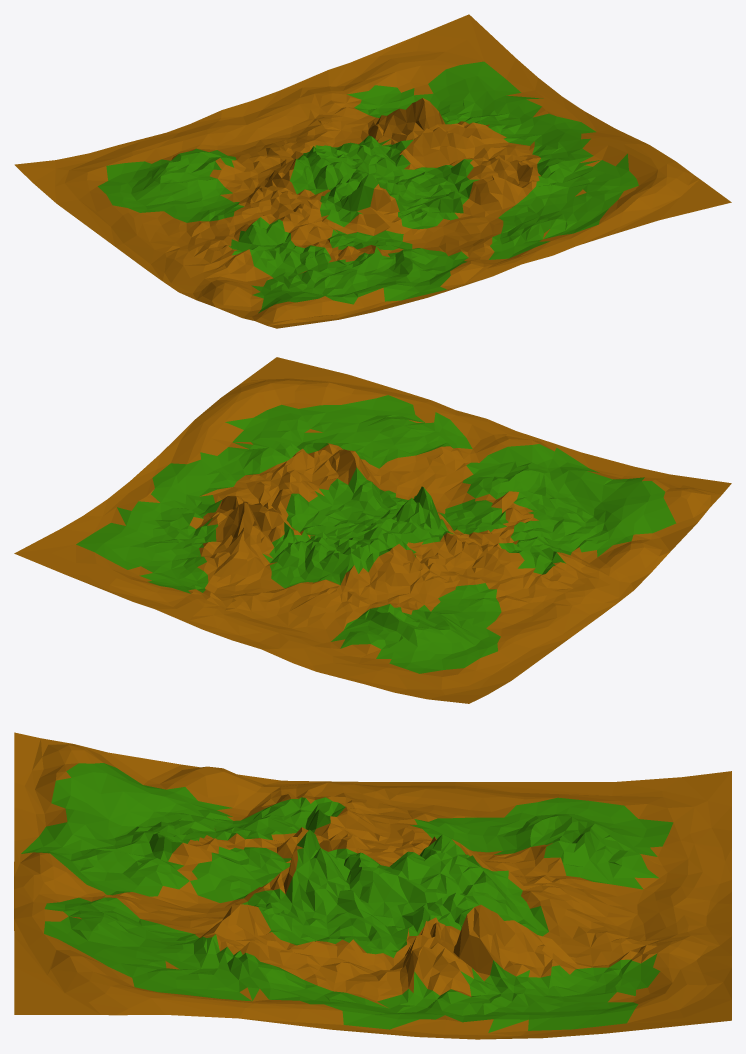
Rendered from rocky_hill.glb.
The picture shows the model from 3 angles, top to bottom: view 1: azimuth 30°, elevation 25°; view 2: azimuth 150°, elevation 25°; view 3: azimuth 270°, elevation 25°; orthographic projection. The views are drawn at different scales.
Visible parts, largest first — view 1: Landscape; view 2: Landscape; view 3: Landscape.
Boxes of the visible parts, x1,y1,x2,y2 form: Landscape: (14, 14, 731, 328); Landscape: (14, 357, 731, 703); Landscape: (14, 732, 731, 1039).
Bounding box in the file's own units: 5 × 0.6807 × 5.
